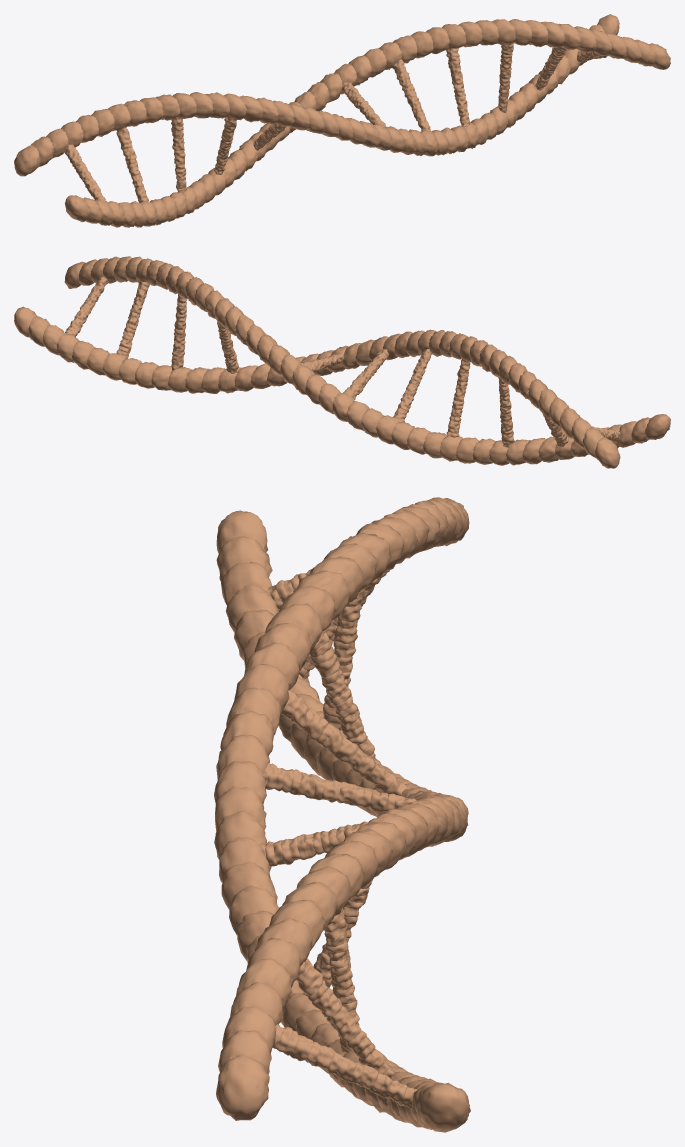
Rendered from dna.glb.
The picture shows the model from 3 angles, top to bottom: view 1: azimuth 30°, elevation 25°; view 2: azimuth 150°, elevation 25°; view 3: azimuth 270°, elevation 25°; orthographic projection. The views are drawn at different scales.
Visible parts, largest first — view 1: DNA; view 2: DNA; view 3: DNA.
Part boxes in pixels (x1=…): DNA: x1=14, y1=14, x2=670, y2=227; DNA: x1=14, y1=256, x2=670, y2=468; DNA: x1=214, y1=497, x2=470, y2=1132.
Bounding box in the file's own units: 4606 × 853 × 852.
